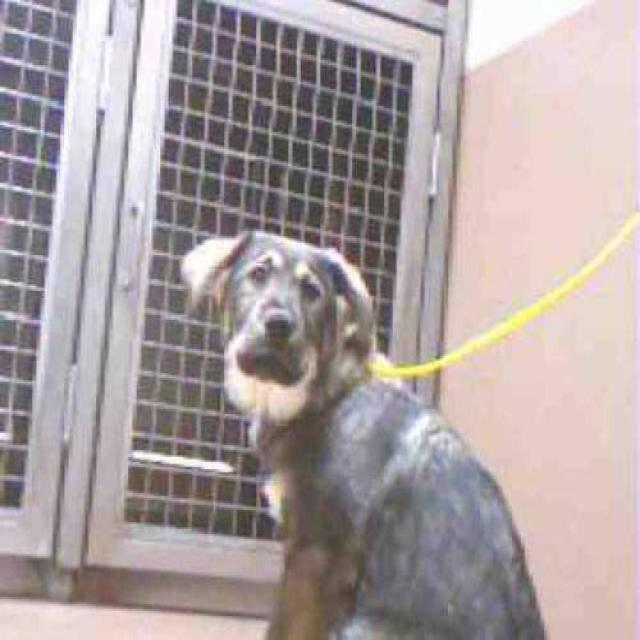dog: (179, 226, 548, 638)
